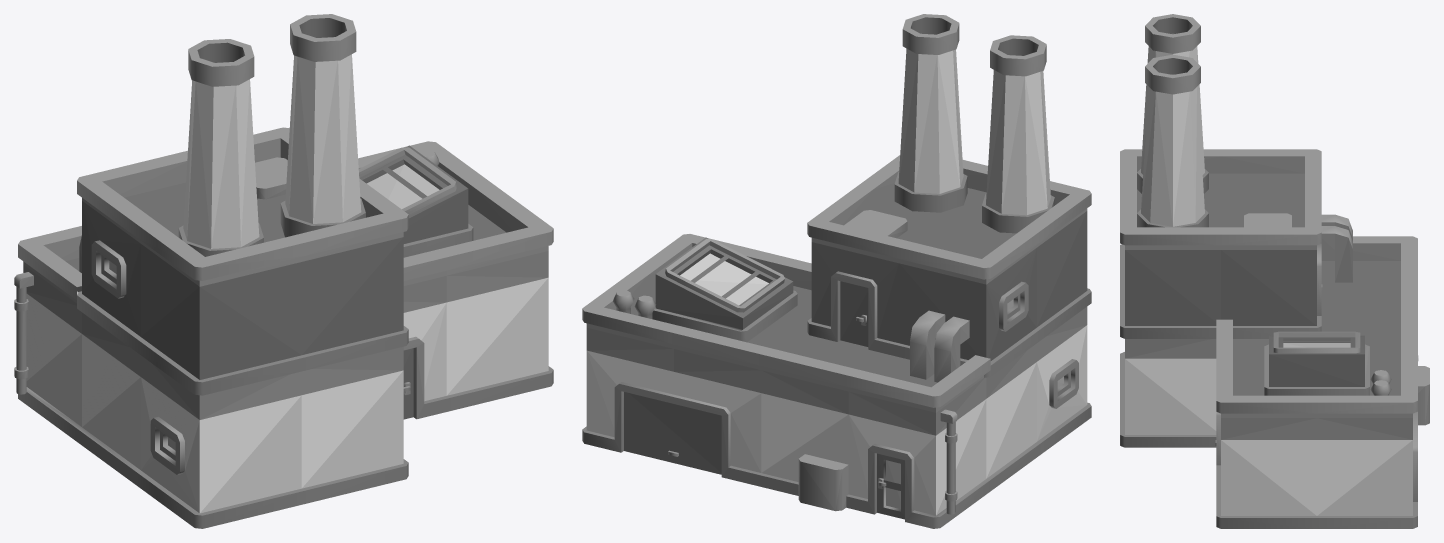
The model's file is hub_refinery.glb.
3 renders of one model, left to right at view 1: azimuth 30°, elevation 25°; view 2: azimuth 150°, elevation 25°; view 3: azimuth 270°, elevation 25°, orthographic. The views are drawn at different scales.
Visible parts, largest first — view 1: Body; view 2: Body; view 3: Body.
Part boxes in pixels (<box>): Body: <box>14,14,553,528</box>; Body: <box>582,14,1091,528</box>; Body: <box>1120,14,1429,528</box>.
Size of the model in its own units: 18 by 17.64 by 13.79.
Materials: 2 (1 with a texture image).
